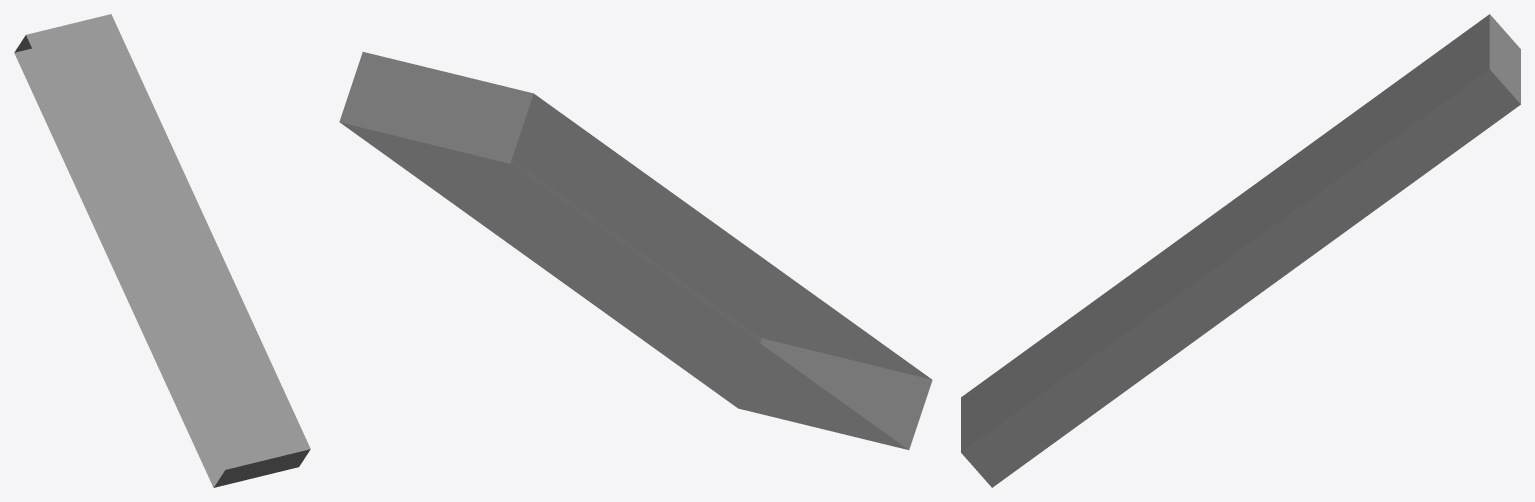
The model's file is SW_ENV_Railing_StairWall_03_Collision.fbx.
3 views of the same model, side by side, from view 1: azimuth 30°, elevation 25°; view 2: azimuth 150°, elevation 25°; view 3: azimuth 270°, elevation 25° (orthographic). The views are drawn at different scales.
Visible parts, largest first — view 1: SW_ENV_Railing_StairWall_03_Collision; view 2: SW_ENV_Railing_StairWall_03_Collision; view 3: SW_ENV_Railing_StairWall_03_Collision.
Part boxes in pixels (box(x1,y1,x2,y2)): SW_ENV_Railing_StairWall_03_Collision: box(14, 14, 310, 487); SW_ENV_Railing_StairWall_03_Collision: box(339, 52, 932, 449); SW_ENV_Railing_StairWall_03_Collision: box(961, 14, 1520, 487).
Size of the model in its own units: 0.1856 by 0.6552 by 0.7942.
